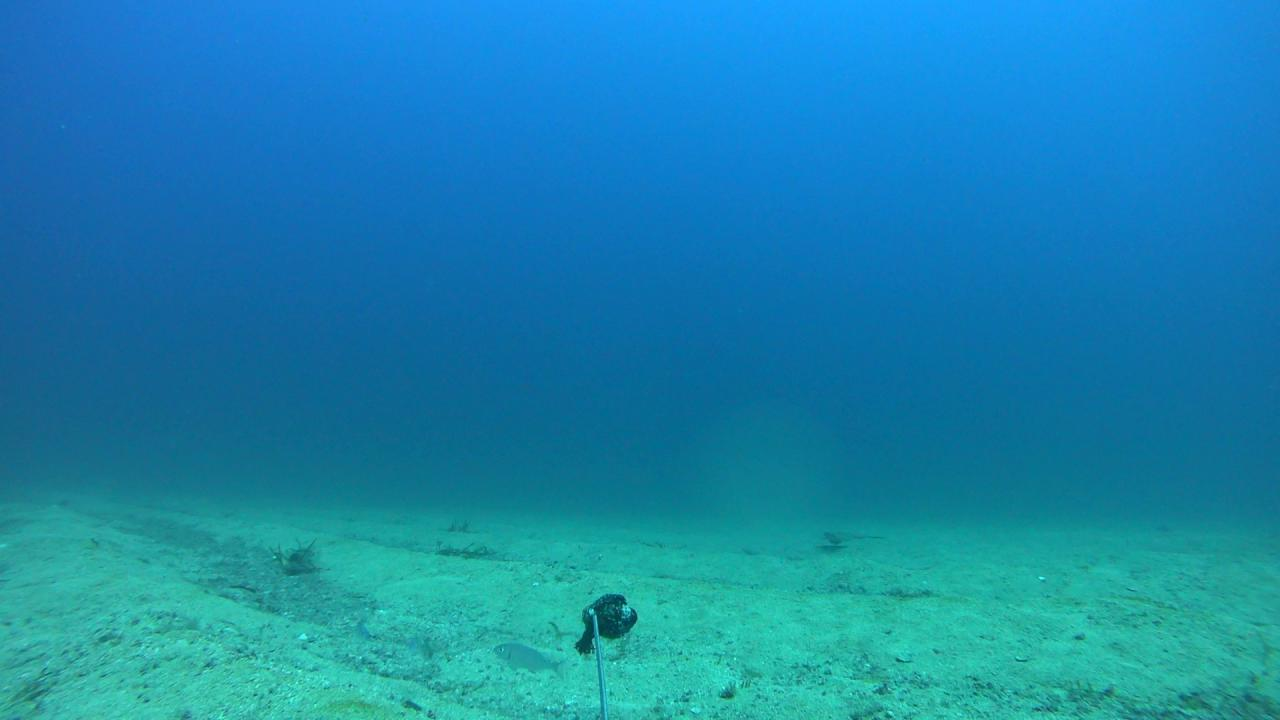pagellus: (491, 641, 563, 676)
